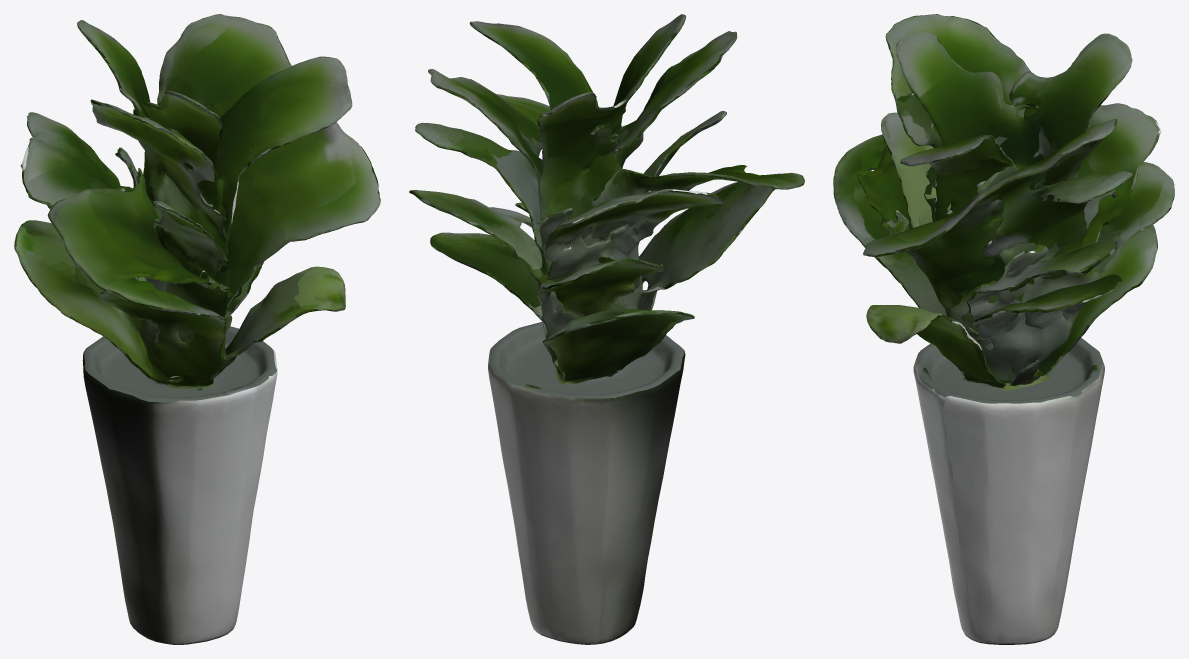
The picture shows the model from 3 angles, left to right: view 1: azimuth 30°, elevation 25°; view 2: azimuth 150°, elevation 25°; view 3: azimuth 270°, elevation 25°; orthographic projection. The views are drawn at different scales.
Parts seen in each view (by area): view 1: world; view 2: world; view 3: world.
Part boxes in pixels (left/top/right/bottom): world: left=14, top=14, right=380, bottom=644; world: left=409, top=14, right=804, bottom=644; world: left=833, top=14, right=1174, bottom=644.
Size of the model in its own units: 0.5372 by 0.9884 by 0.5378.
1 material, 1 textured.
